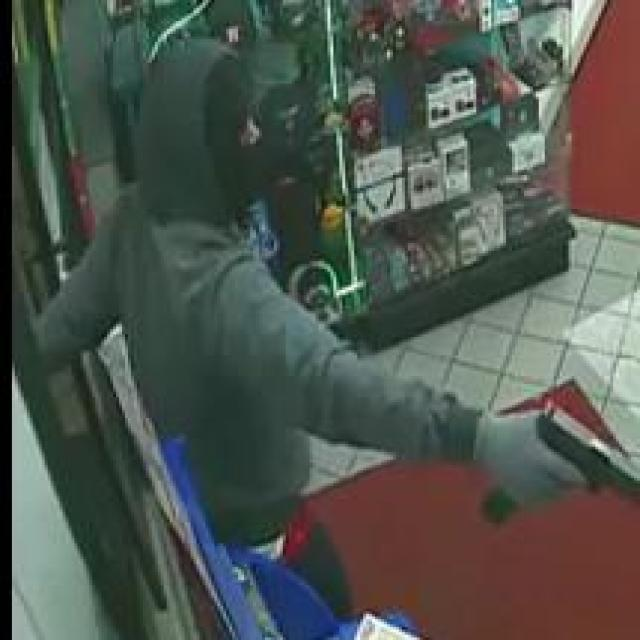Gun: (508, 397, 628, 535)
